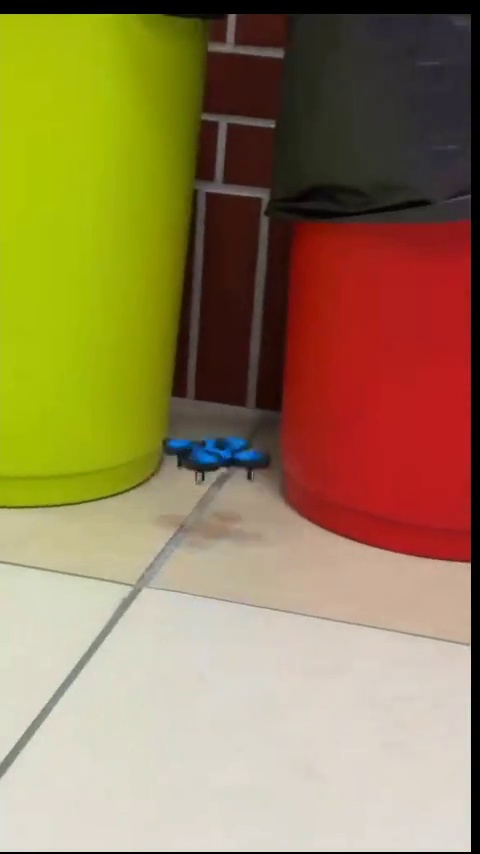drone: (163, 435, 269, 483)
